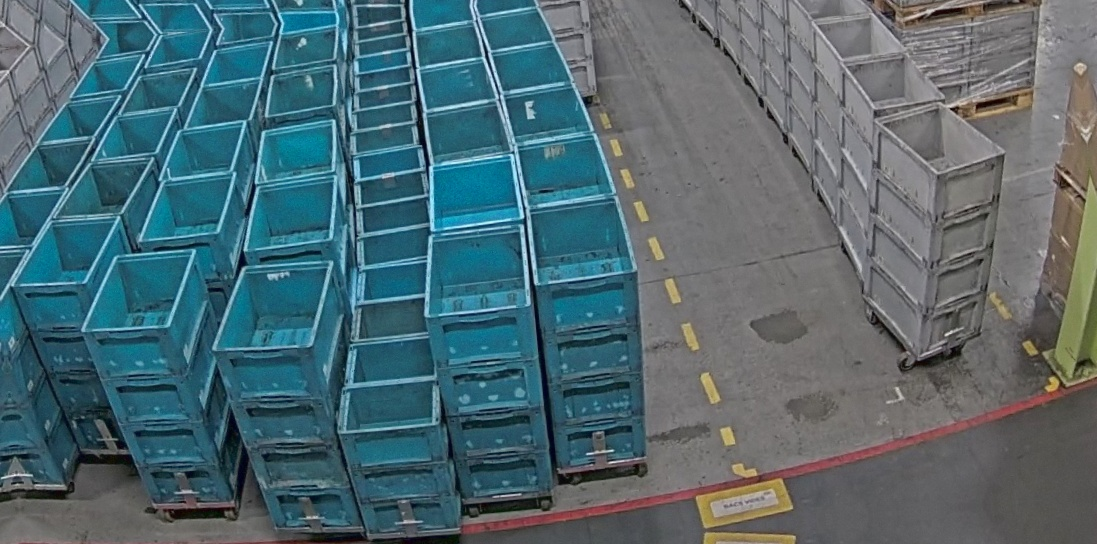4G: (845, 99, 1022, 362)
B4: (77, 245, 248, 517), (205, 258, 365, 539), (417, 223, 552, 506), (5, 213, 151, 467), (524, 194, 655, 475)
B8: (330, 334, 461, 539)
